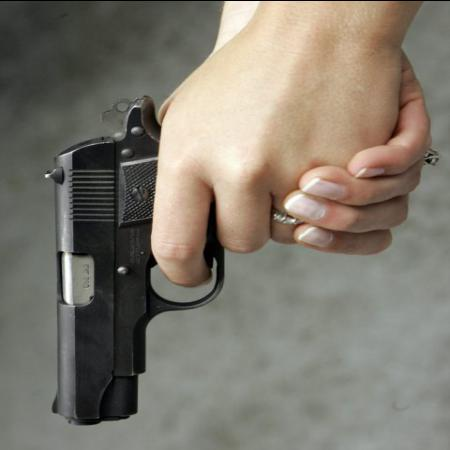Pistol: (41, 95, 227, 424)
